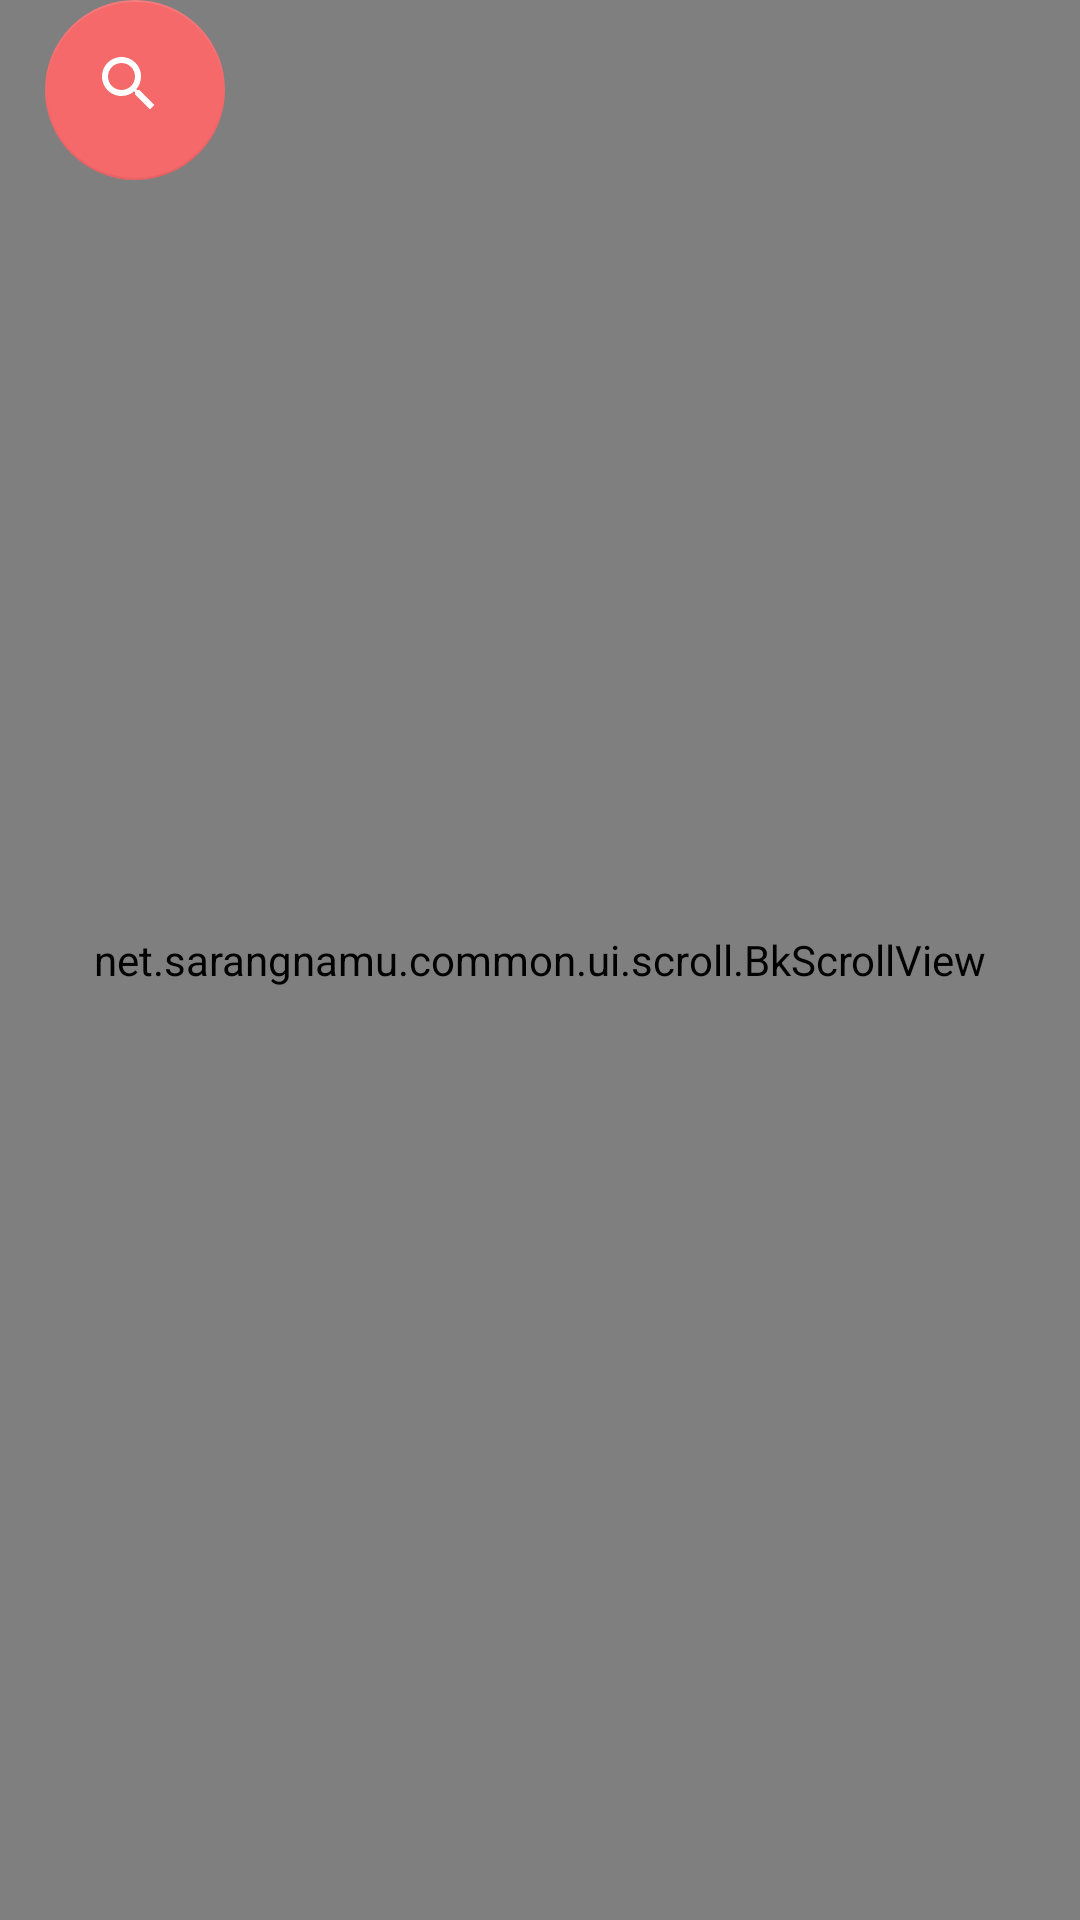

Where to tap for icons on this 1080px×1920px app screen, as [x,y]:
search: [135,90]
